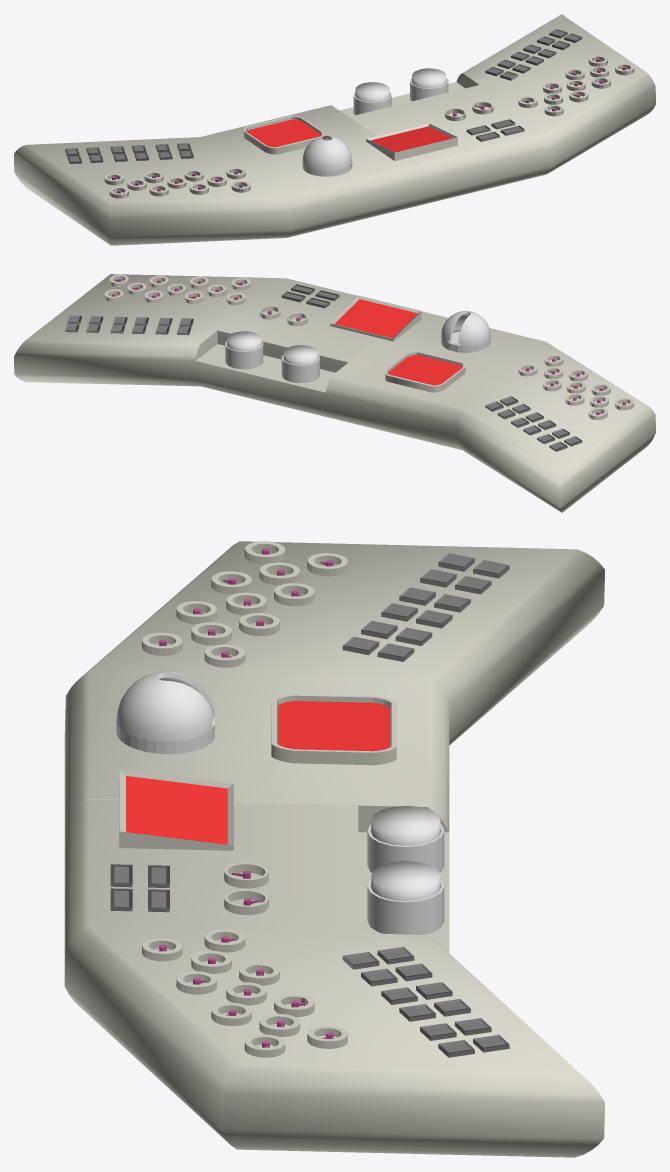
Rendered from ControllerModifed.fbx.
3 views of the same model, one above another, from view 1: azimuth 30°, elevation 25°; view 2: azimuth 150°, elevation 25°; view 3: azimuth 270°, elevation 25° (orthographic). The views are drawn at different scales.
Visible parts, largest first — view 1: Box038, Sphere001, ButtonActivator001, ButtonActivator, ButtonBase, ButtonBase001; view 2: Box038, Sphere001, ButtonBase001, ButtonBase, ButtonActivator001, ButtonActivator; view 3: Box038, Sphere001, ButtonBase001, ButtonActivator, ButtonActivator001, ButtonBase.
Part boxes in pixels (left/top/right/bottom): Box038: left=14, top=14, right=655, bottom=245; Sphere001: left=302, top=135, right=352, bottom=176; ButtonActivator001: left=412, top=68, right=446, bottom=88; ButtonActivator: left=355, top=82, right=389, bottom=102; ButtonBase: left=353, top=91, right=391, bottom=115; ButtonBase001: left=410, top=78, right=448, bottom=101; Box038: left=14, top=274, right=655, bottom=512; Sphere001: left=441, top=311, right=490, bottom=352; ButtonBase001: left=225, top=341, right=263, bottom=369; ButtonBase: left=281, top=354, right=319, bottom=383; ButtonActivator001: left=227, top=331, right=261, bottom=351; ButtonActivator: left=283, top=345, right=317, bottom=365; Box038: left=64, top=541, right=604, bottom=1157; Sphere001: left=116, top=671, right=214, bottom=754; ButtonBase001: left=367, top=879, right=444, bottom=934; ButtonActivator: left=371, top=805, right=440, bottom=845; ButtonActivator001: left=371, top=861, right=440, bottom=901; ButtonBase: left=367, top=824, right=444, bottom=872.
Size of the model in its own units: 534 by 71.01 by 229.
